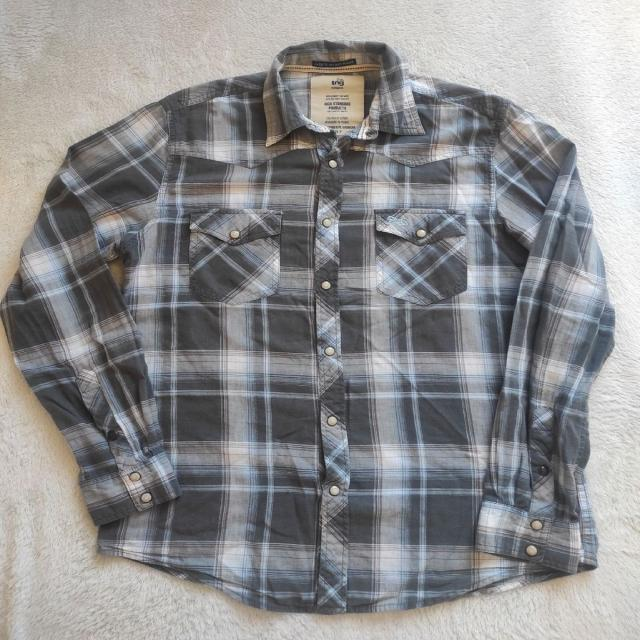long sleeve shirt: (0, 35, 622, 619)
